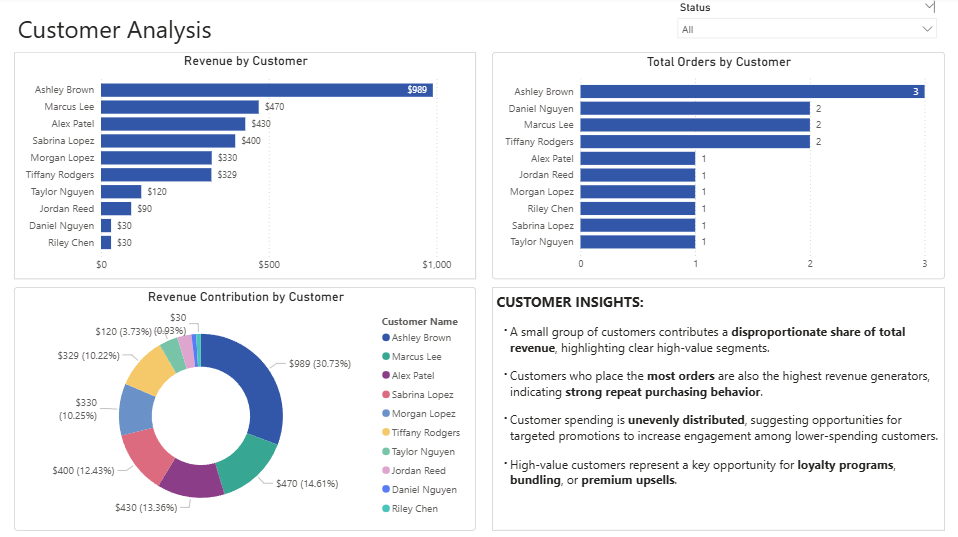

Layout of this report page (visuals, bound fields, positions):
{"tool":"powerbi","page":{"name":"Customer Analysis","canvas":[1280,720],"ordinal":2},"visuals":[{"type":"clusteredBarChart","title":"Revenue by Customer","fields":{"Category":["retail_sales_customers.FullName"],"Y":["retail_sales_orderitems.Total Revenue"]},"box":[18.6,72.9,616.4,303.2],"z":0},{"type":"clusteredBarChart","title":"Total Orders by Customer","fields":{"Category":["retail_sales_customers.FullName"],"Y":["retail_sales_orderitems.Order Count"]},"box":[656.4,72.9,603.5,303.2],"z":1000},{"type":"donutChart","title":"Revenue Contribution by Customer","fields":{"Y":["retail_sales_orderitems.Total Revenue"],"Category":["retail_sales_customers.FullName"]},"box":[18.6,386.1,616.4,324.6],"z":2000},{"type":"slicer","fields":{"Values":["retail_sales_orders.Status"]},"box":[893.9,0,366.1,62.9],"z":3000},{"type":"textbox","box":[18.6,14.3,277.5,58.6],"z":4000},{"type":"textbox","box":[656,386,604,325],"z":5000}]}

Visuals, with their boxes in screenshot pixels (x1, y1, x2, y2), scaled from the page's 1280x720 canvas onto the 958x537 screenshot:
"Revenue by Customer" clusteredBarChart: 14:54:475:281
"Total Orders by Customer" clusteredBarChart: 491:54:943:281
"Revenue Contribution by Customer" donutChart: 14:288:475:530
slicer - retail_sales_orders.Status: 669:0:943:47
textbox: 14:11:222:54
textbox: 491:288:943:530
